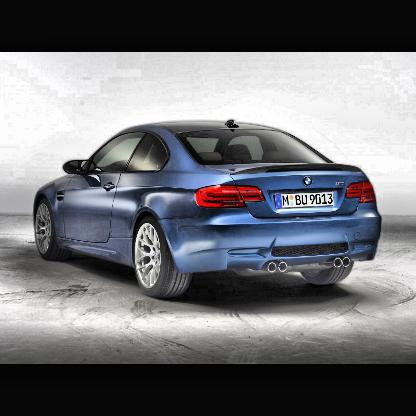BMW M3 Coupe 2012: (32, 120, 384, 302)
